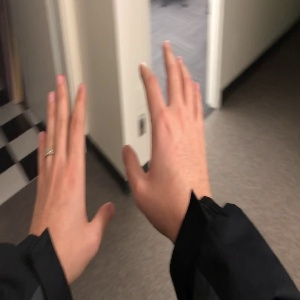hand: (30, 73, 115, 253), (123, 40, 210, 200)
